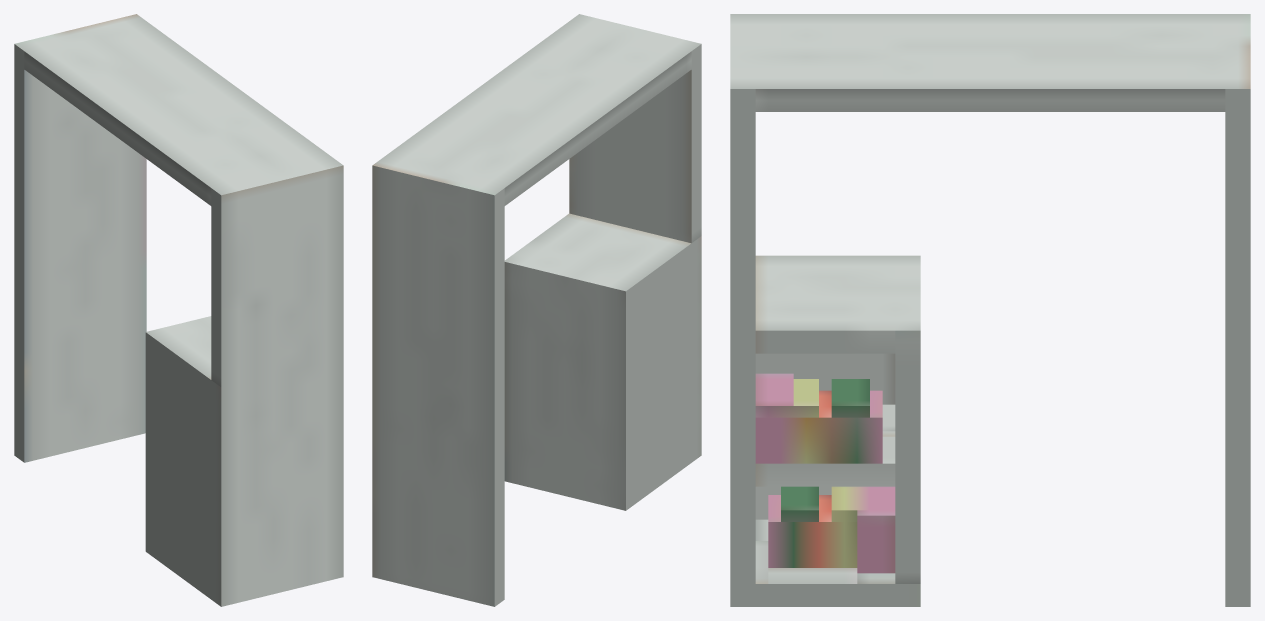
Rendered from LargeBookshelfAndBedFrame_00.fbx.
3 renders of one model, left to right at view 1: azimuth 30°, elevation 25°; view 2: azimuth 150°, elevation 25°; view 3: azimuth 270°, elevation 25°, orthographic. The views are drawn at different scales.
Parts seen in each view (by area): view 1: LargeBookshelfAndBedFrame_00; view 2: LargeBookshelfAndBedFrame_00; view 3: LargeBookshelfAndBedFrame_00.
Boxes of the visible parts, x1,y1,x2,y2 form: LargeBookshelfAndBedFrame_00: (14, 14, 343, 606); LargeBookshelfAndBedFrame_00: (372, 14, 701, 606); LargeBookshelfAndBedFrame_00: (730, 14, 1250, 606).
Bounding box in the file's own units: 70 × 205 × 225.
1 material, 1 textured.
